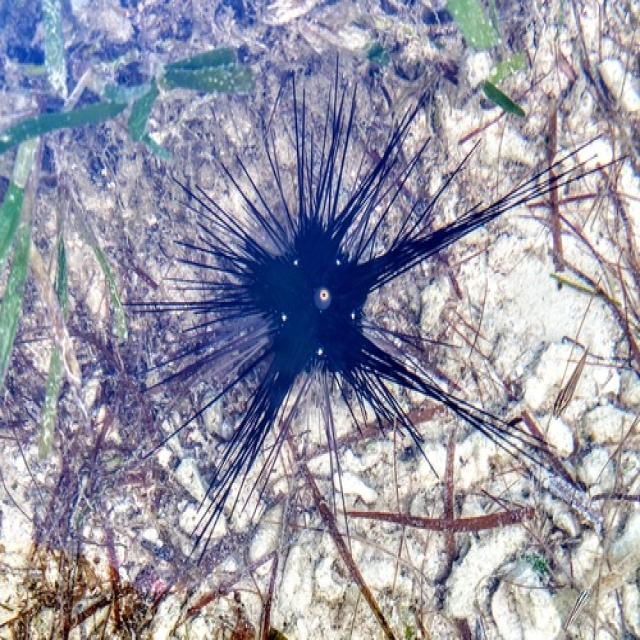Urchin: (123, 53, 630, 558)
